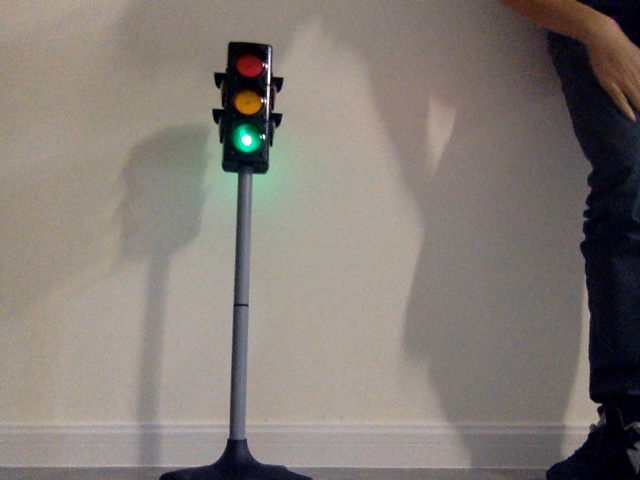green: (229, 51, 264, 162)
